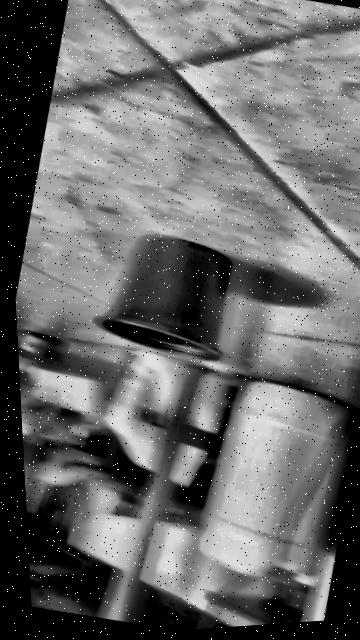pot: (91, 222, 249, 372)
